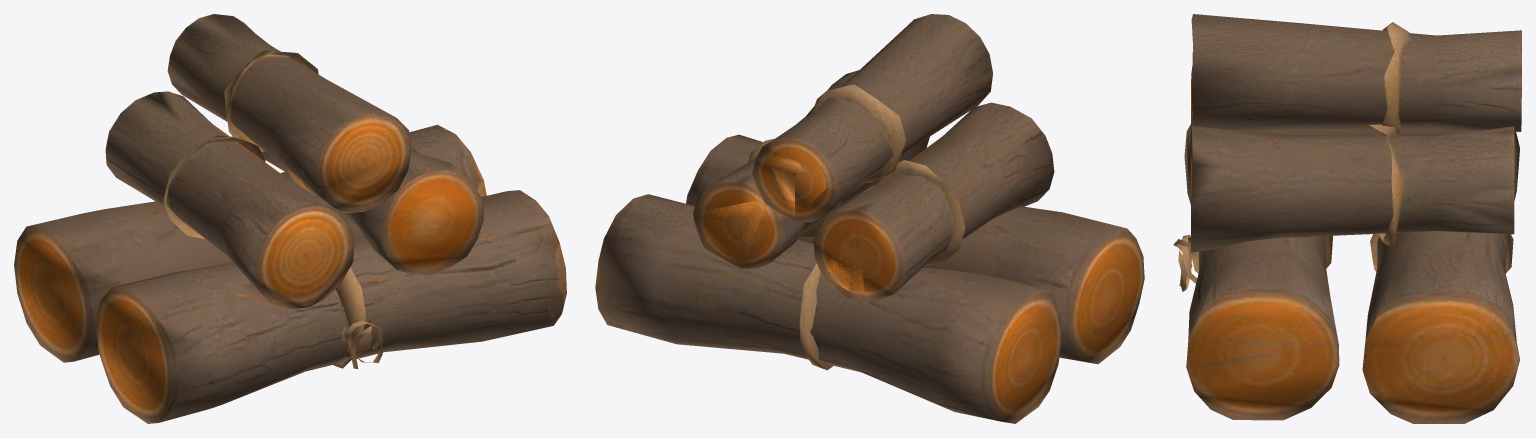
Rendered from res-lumber.glb.
The picture shows the model from 3 angles, left to right: view 1: azimuth 30°, elevation 25°; view 2: azimuth 150°, elevation 25°; view 3: azimuth 270°, elevation 25°; orthographic projection. The views are drawn at different scales.
Bounding box in the file's own units: 0.96 × 0.6289 × 0.671.
Materials: 1 (1 with a texture image).
